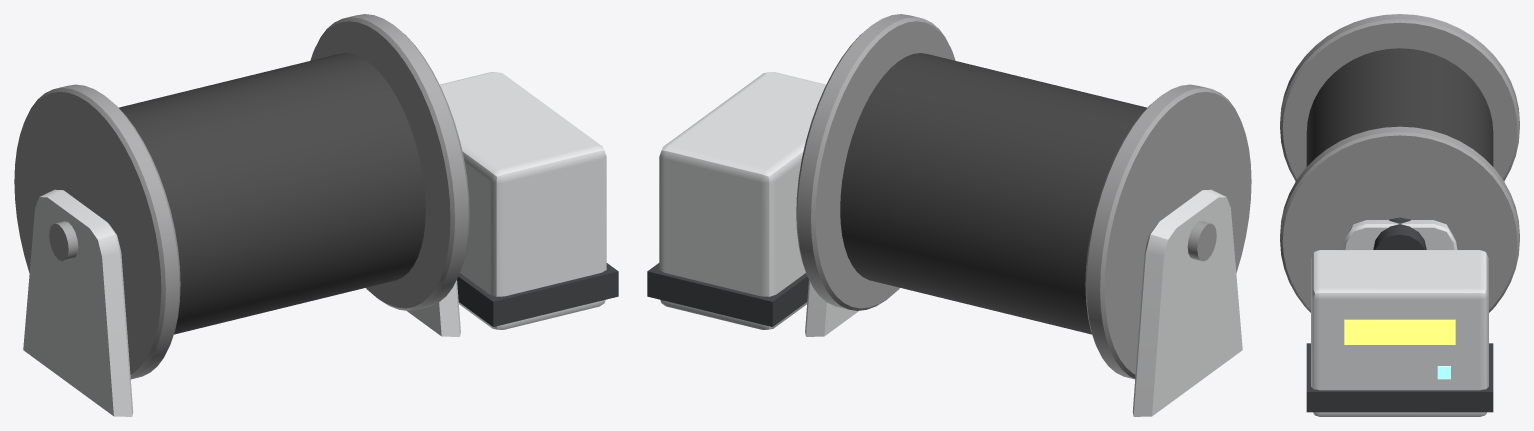
Rendered from spotter_winch.glb.
The picture shows the model from 3 angles, left to right: view 1: azimuth 30°, elevation 25°; view 2: azimuth 150°, elevation 25°; view 3: azimuth 270°, elevation 25°; orthographic projection. The views are drawn at different scales.
Visible parts, largest first — view 1: spotter_winch; view 2: spotter_winch; view 3: spotter_winch.
Part boxes in pixels (box(x1,y1,x2,y2)): spotter_winch: box(14, 14, 618, 416); spotter_winch: box(647, 14, 1251, 416); spotter_winch: box(1280, 14, 1519, 416).
Bounding box in the file's own units: 1.04 × 0.56 × 0.54.
